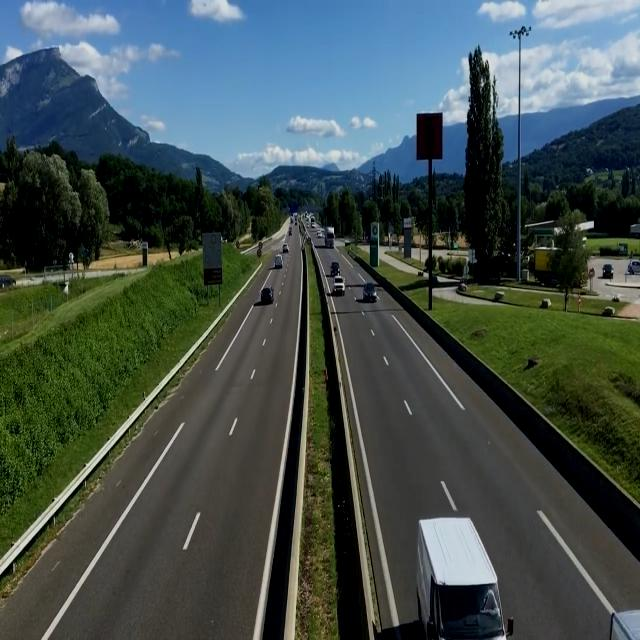Car: (259, 282, 275, 306), (361, 282, 377, 303), (332, 274, 344, 296), (329, 261, 342, 276), (281, 240, 290, 253), (315, 230, 323, 239)
Truck: (324, 224, 336, 250)
Van: (384, 490, 515, 640), (274, 252, 283, 270)
